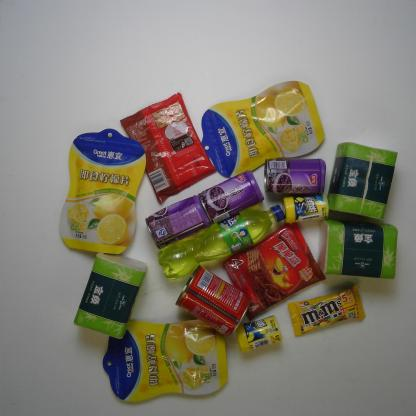Canned Food: (176, 265, 252, 334), (143, 194, 212, 249), (197, 170, 265, 224), (264, 157, 326, 199)
Chocolate: (288, 286, 365, 336)
Dessert: (117, 91, 219, 205), (222, 222, 328, 320)
Dried Fruit: (198, 80, 326, 178), (57, 127, 147, 257), (103, 313, 229, 405)
Drink: (157, 206, 286, 282)
Gum: (235, 315, 283, 352), (283, 196, 328, 224)
Tissue: (72, 249, 147, 342), (328, 142, 399, 220), (320, 219, 398, 280)
